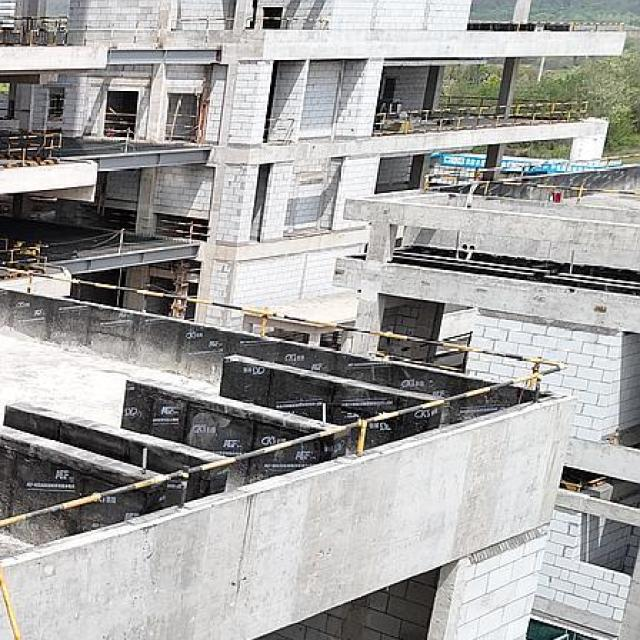edge_guardrail: (0, 266, 567, 531), (423, 154, 640, 204), (372, 96, 589, 136), (0, 130, 61, 167), (467, 18, 626, 32), (0, 15, 69, 46), (0, 237, 49, 274), (68, 28, 162, 46), (78, 206, 135, 225), (434, 332, 474, 358), (263, 16, 330, 31), (157, 219, 209, 237), (169, 17, 234, 30), (439, 94, 501, 107), (166, 114, 196, 140), (264, 118, 294, 142), (106, 112, 136, 134)
